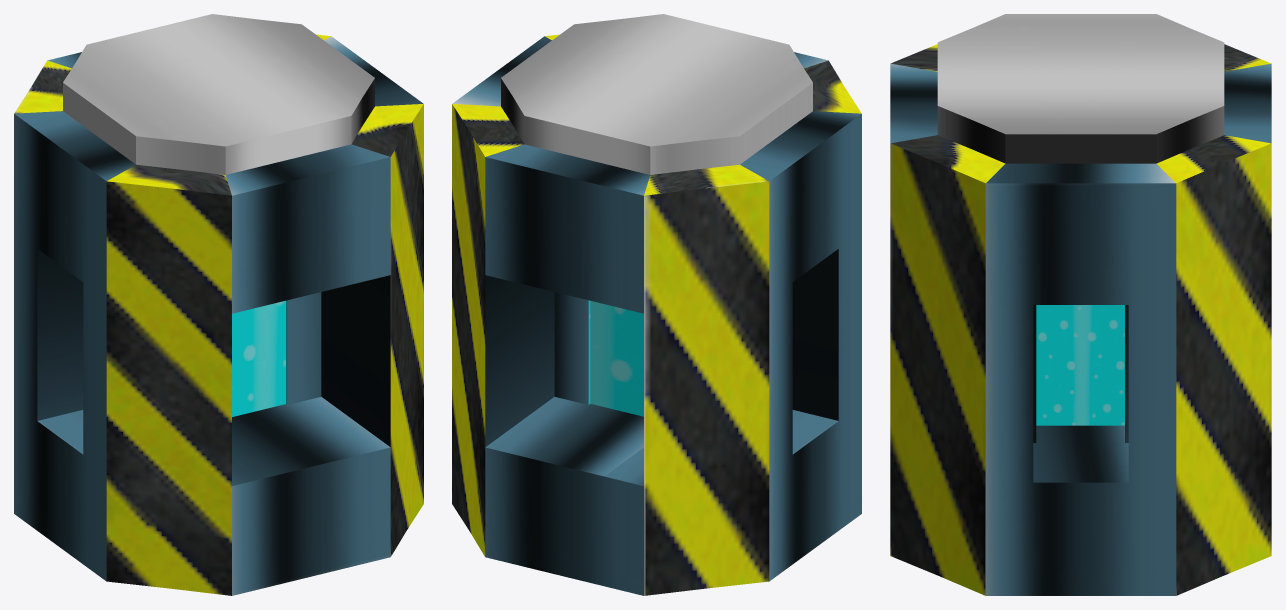
File: FuelCell.fbx
The picture shows the model from 3 angles, left to right: view 1: azimuth 30°, elevation 25°; view 2: azimuth 150°, elevation 25°; view 3: azimuth 270°, elevation 25°; orthographic projection. The views are drawn at different scales.
Parts seen in each view (by area): view 1: Cube; view 2: Cube; view 3: Cube.
Part boxes in pixels (left/top/right/bottom): Cube: left=14, top=14, right=423, bottom=595; Cube: left=452, top=14, right=861, bottom=595; Cube: left=890, top=14, right=1271, bottom=595.
Bounding box in the file's own units: 1.1 × 1.42 × 1.11.
